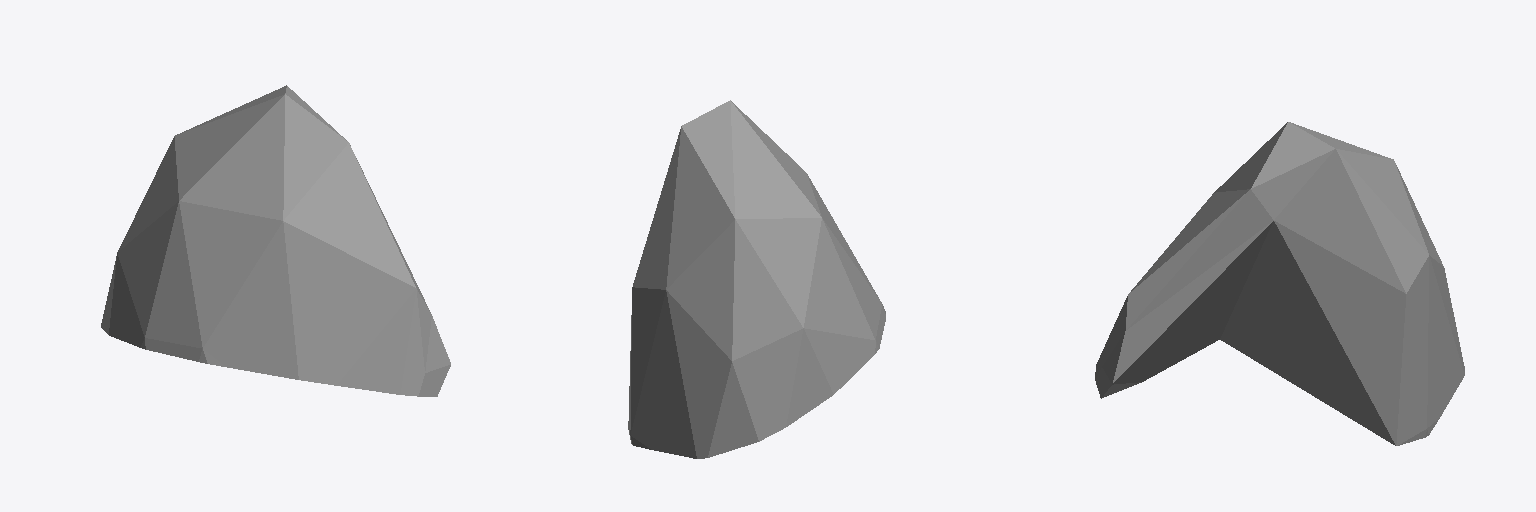
File: SuperiorLob.obj
3 renders of one model, left to right at view 1: azimuth 30°, elevation 25°; view 2: azimuth 150°, elevation 25°; view 3: azimuth 270°, elevation 25°, orthographic.
Visible parts, largest first — view 1: LungRightLow_Icosphere.002; view 2: LungRightLow_Icosphere.002; view 3: LungRightLow_Icosphere.002.
Part boxes in pixels (x1,y1,x2,y2): LungRightLow_Icosphere.002: (101, 85, 450, 396); LungRightLow_Icosphere.002: (628, 100, 885, 458); LungRightLow_Icosphere.002: (1095, 122, 1464, 445).
Bounding box in the file's own units: 0.227 × 0.293 × 0.3257.